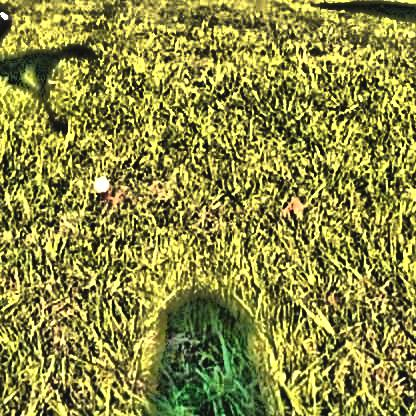golfball: (90, 174, 107, 191)
